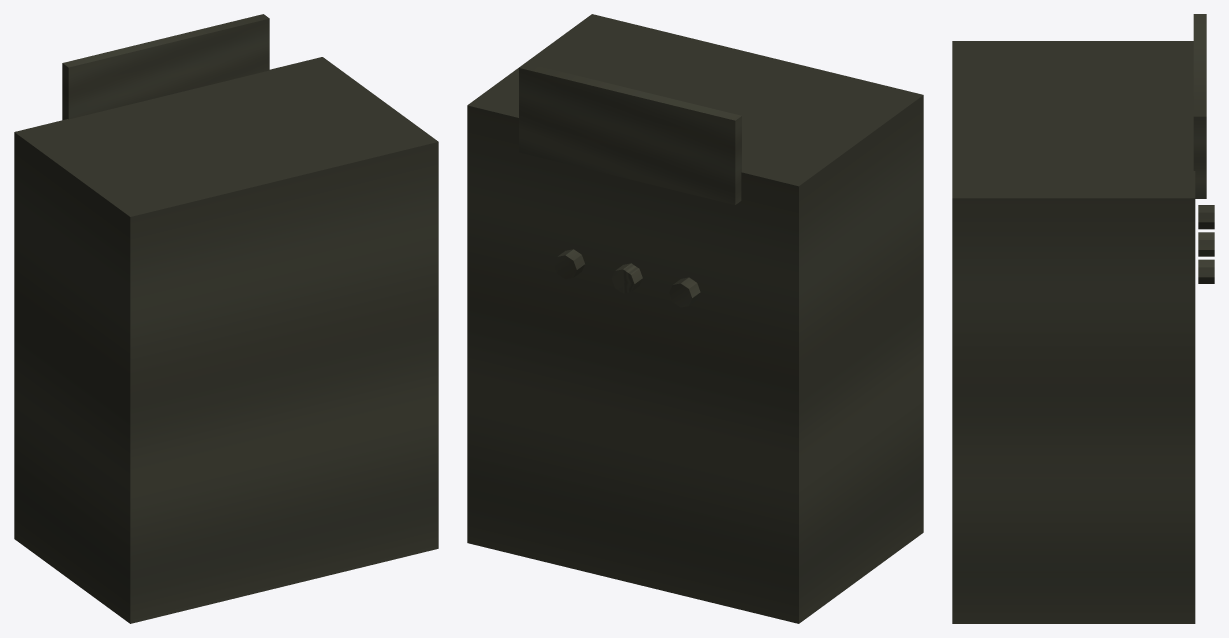
File: env_roof_skylight_4m.glb
3 renders of one model, left to right at view 1: azimuth 30°, elevation 25°; view 2: azimuth 150°, elevation 25°; view 3: azimuth 270°, elevation 25°, orthographic. The views are drawn at different scales.
Parts seen in each view (by area): view 1: env_roof_skylight_4m; view 2: env_roof_skylight_4m; view 3: env_roof_skylight_4m.
Part boxes in pixels (x1,y1,x2,y2): env_roof_skylight_4m: (14,14,438,623); env_roof_skylight_4m: (467,14,923,623); env_roof_skylight_4m: (952,14,1214,623).
Size of the model in its own units: 1.15 by 1.66 by 0.81.
Materials: 1 (1 with a texture image).
